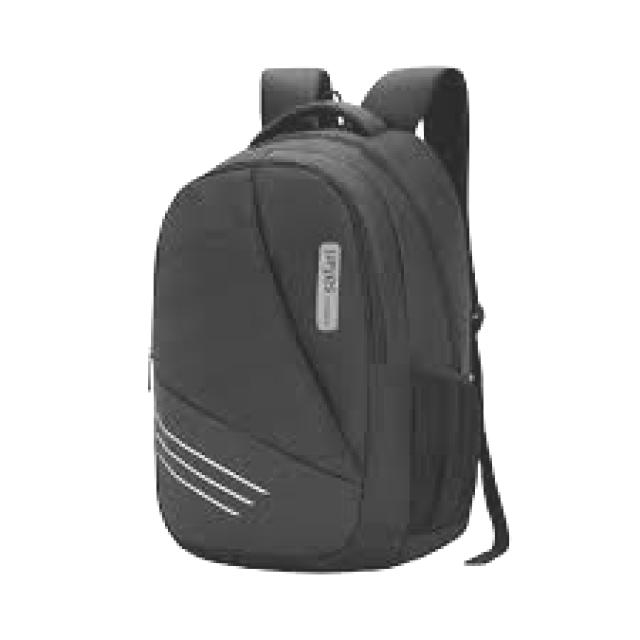backpack: (146, 64, 510, 573)
